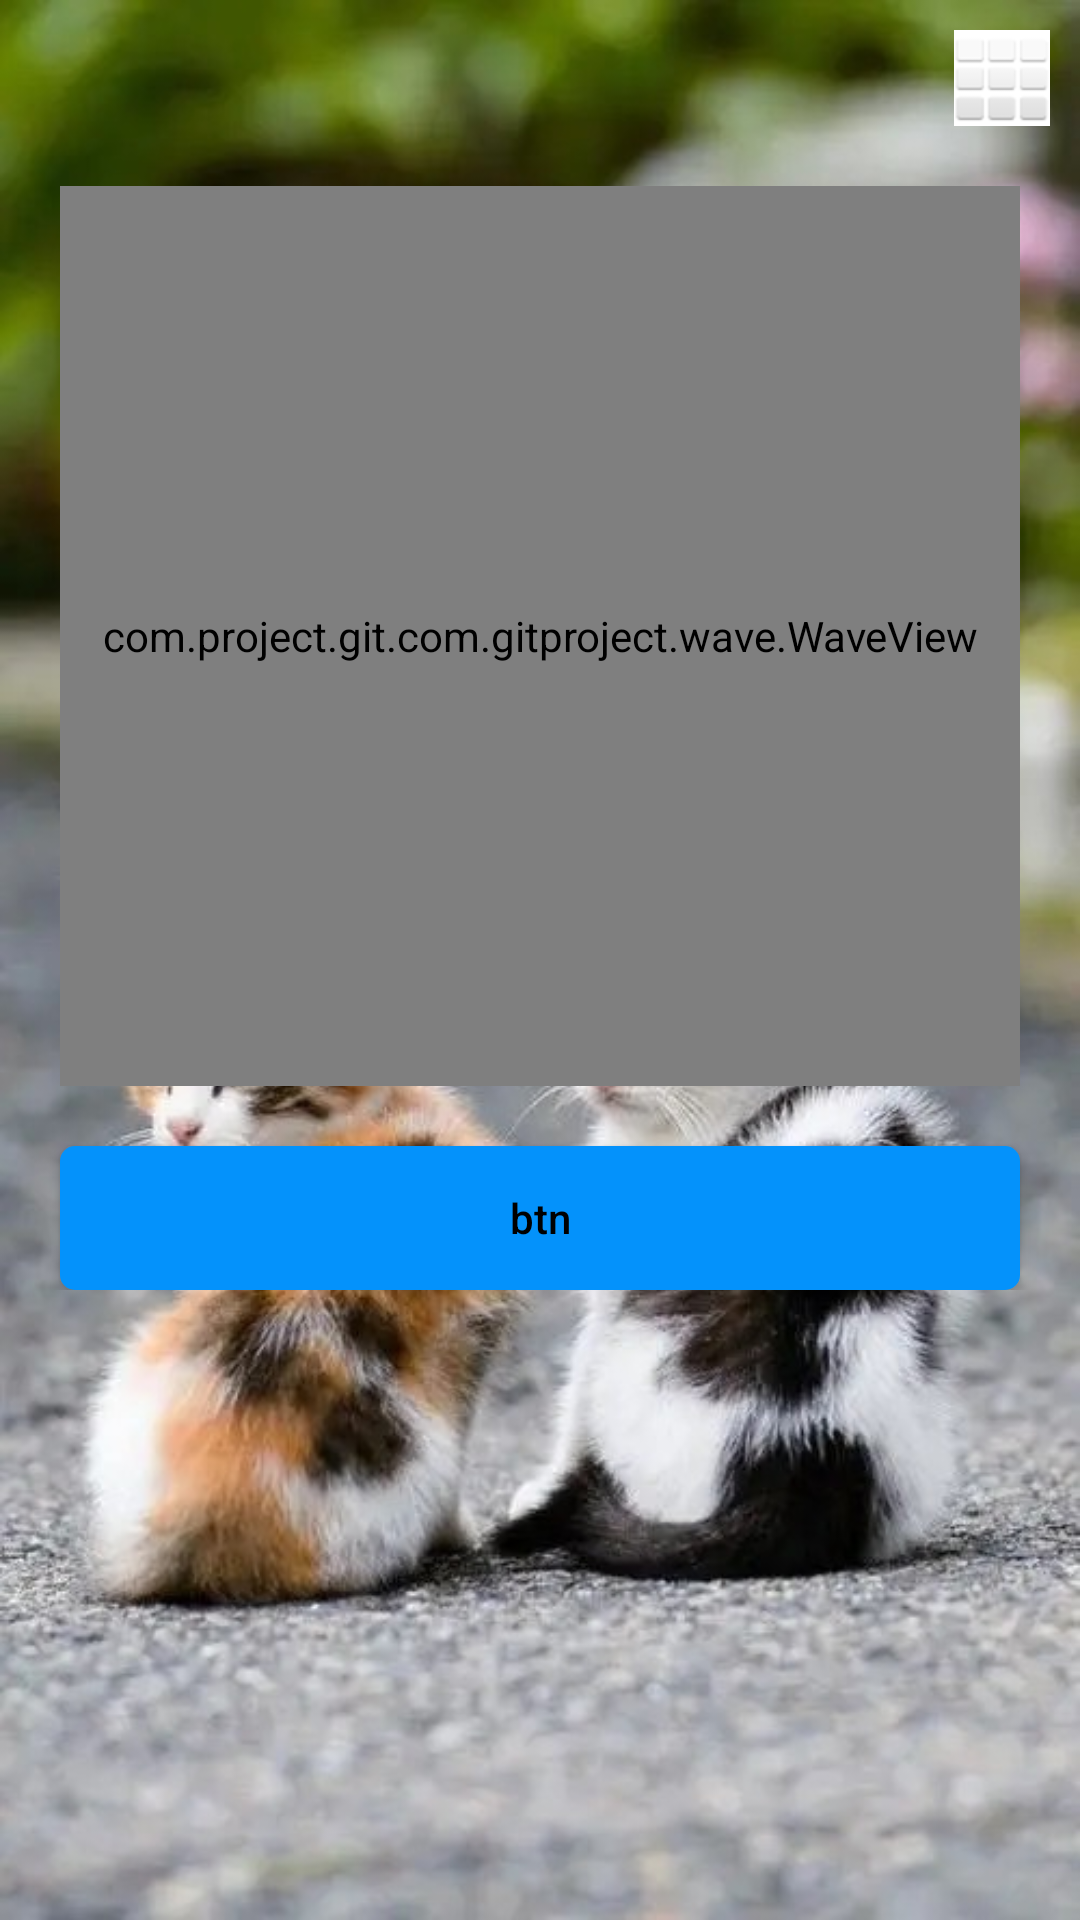

Where to tap for icons on this 1080 x 1920 app screen, as (x=x, y=y):
dialer: (x=1002, y=78)
